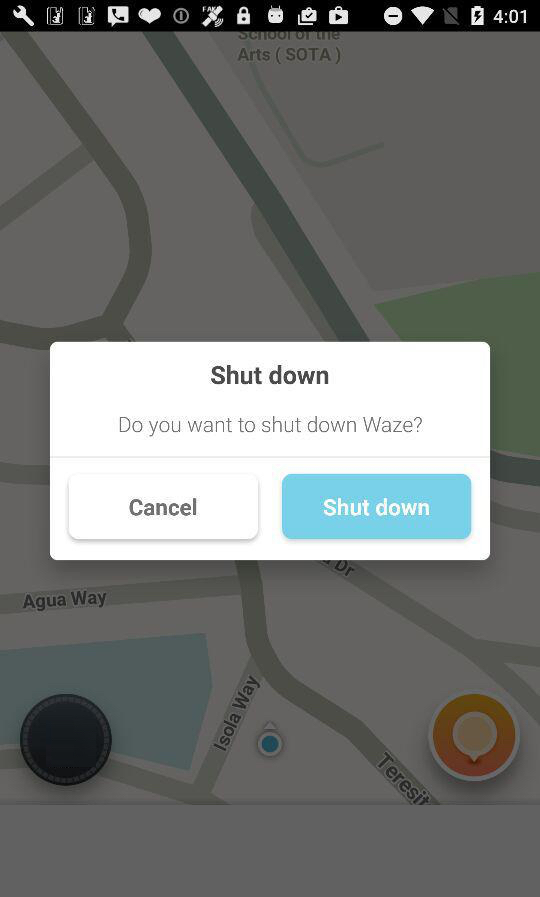Modal: (50, 342, 490, 561)
Text: (120, 416, 423, 438), (211, 364, 329, 385)
TextButton: (68, 473, 260, 540), (282, 474, 472, 540)
UpperTaskBar: (1, 1, 540, 33)
